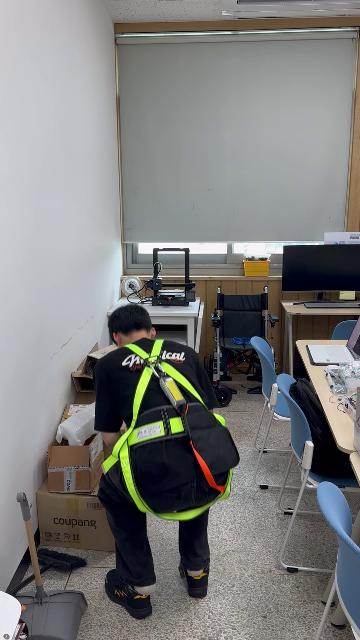helmet_not_worn: (103, 304, 158, 342)
shoe_worn: (100, 567, 155, 619), (179, 559, 215, 599)
vest_worn: (104, 341, 236, 519)
